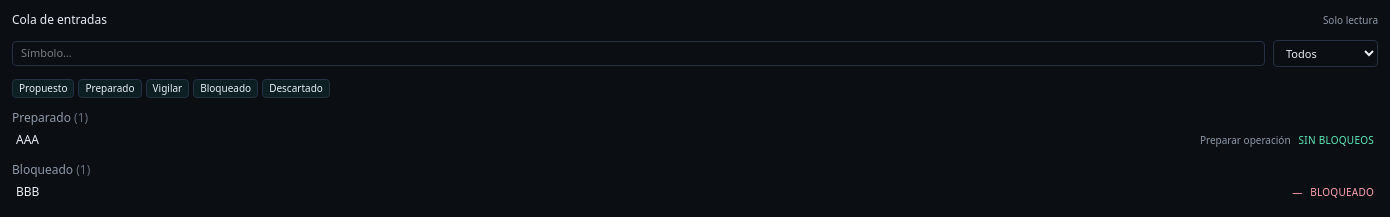
Test: MesaEntryQueuePanel P4.2 filters › renders filter controls and filters by symbol
The image size is (1390, 217).
Expected: the element with test id "mesa-entry-queue-filters" is shown, [12,40,1378,67]
Expected: the text "AAA" is shown, [16,132,39,148]
Type "bbb" into the search field with test id "mesa-entry-queue-symbol".
click(638, 54); type("bbb")  # box [12,41,1265,66]
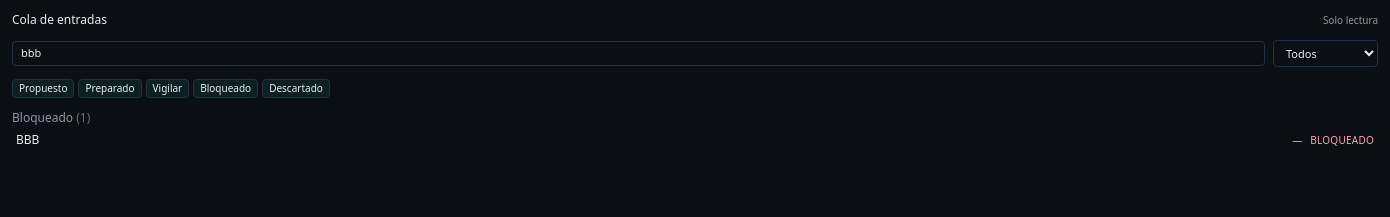
Expected: the text "BBB" is shown, [16,132,39,148]
Result: the text "AAA" is gone
